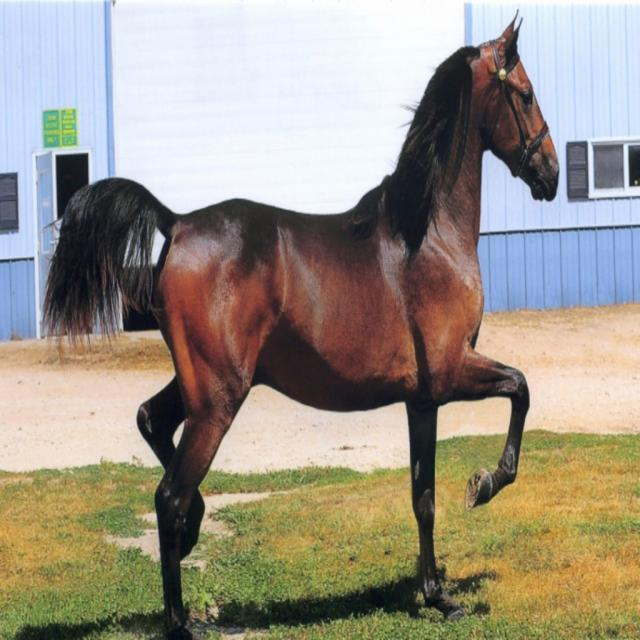Horse: (39, 8, 560, 640)
